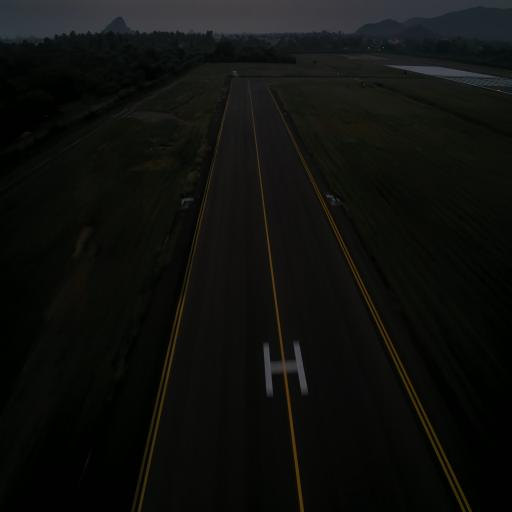on: (331, 195, 336, 206), (185, 200, 190, 208)
